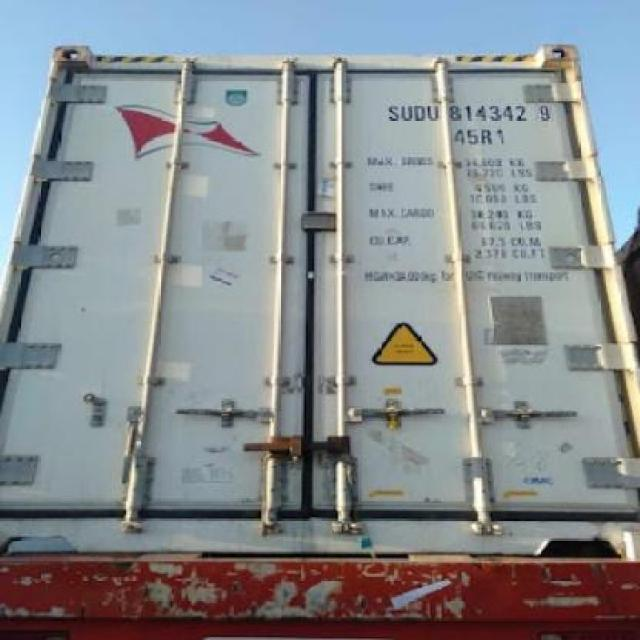ISO: (456, 124, 505, 148)
container_number: (392, 100, 556, 124)
